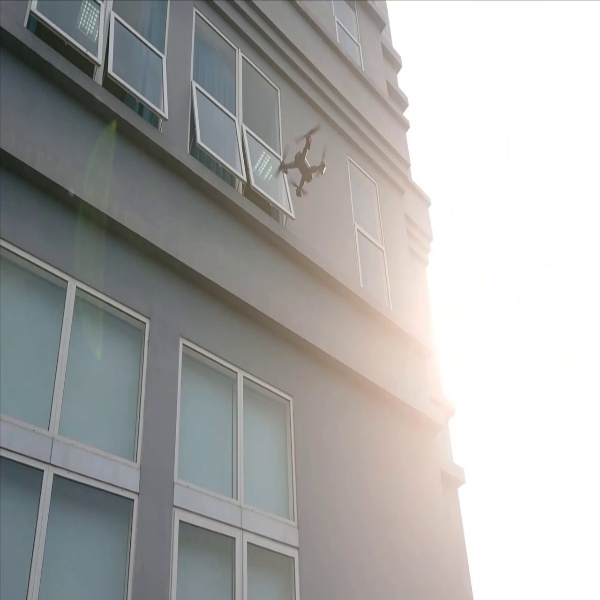drone: (271, 120, 332, 201)
